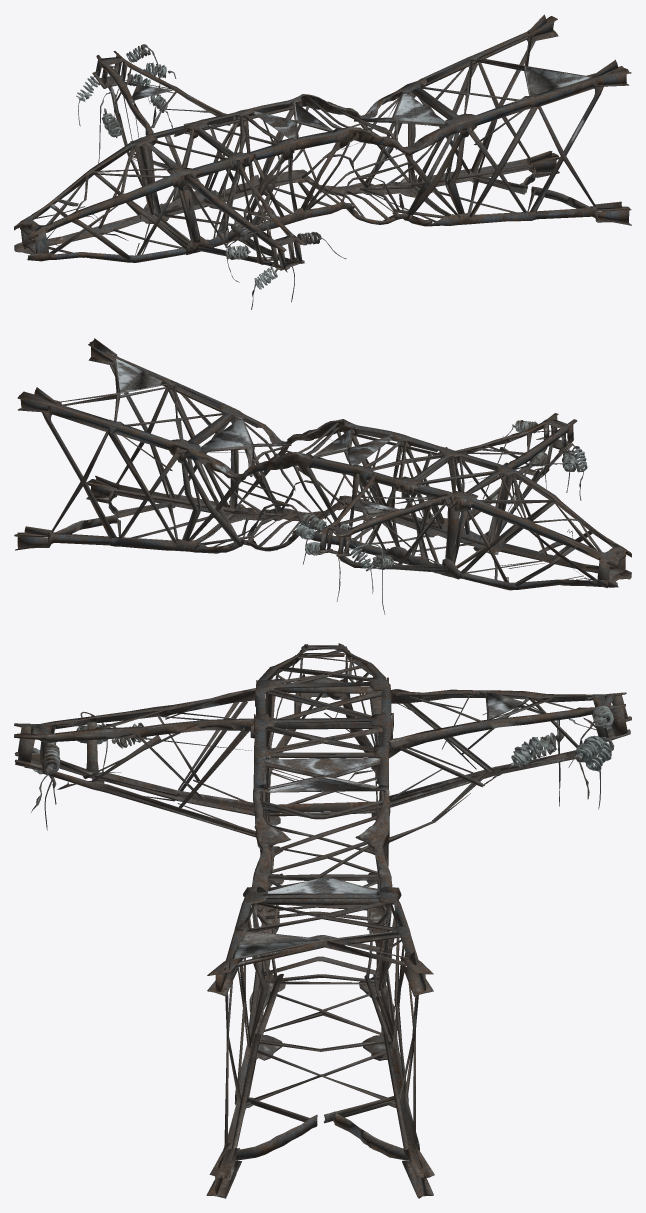
The model's file is road_fallen_pylon.glb.
3 renders of one model, top to bottom at view 1: azimuth 30°, elevation 25°; view 2: azimuth 150°, elevation 25°; view 3: azimuth 270°, elevation 25°, orthographic. The views are drawn at different scales.
Size of the model in its own units: 0.9458 by 0.2632 by 0.6123.
1 material, 1 textured.
